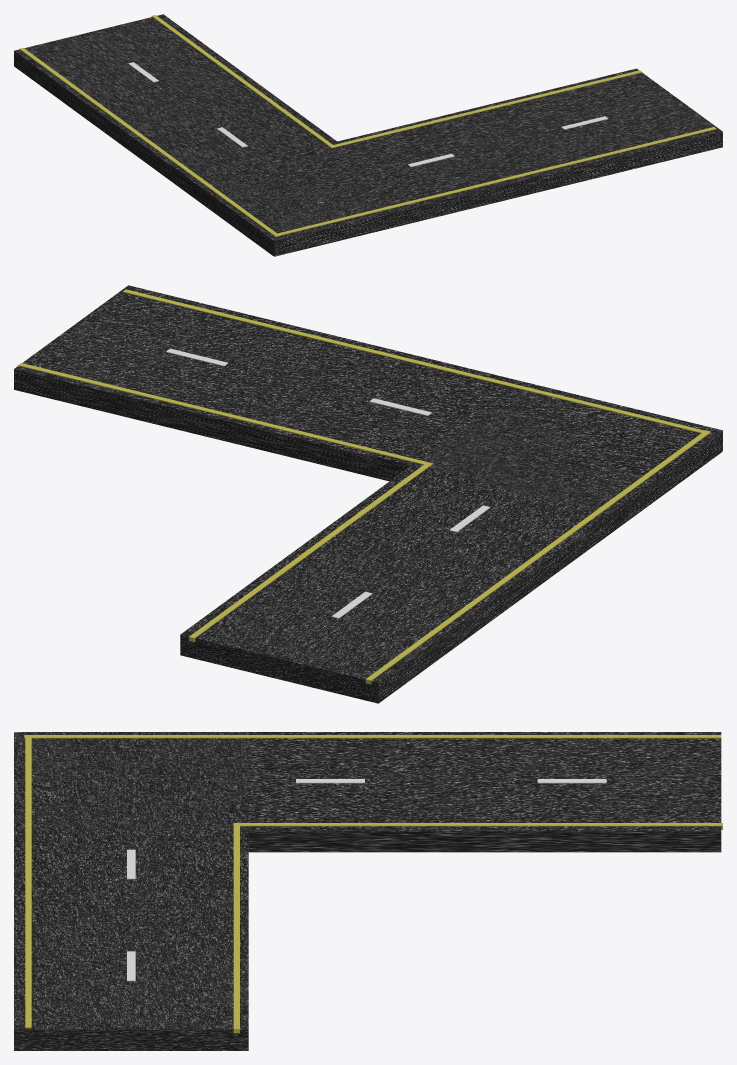
Rendered from road turn.fbx.
The picture shows the model from 3 angles, top to bottom: view 1: azimuth 30°, elevation 25°; view 2: azimuth 150°, elevation 25°; view 3: azimuth 270°, elevation 25°; orthographic projection. The views are drawn at different scales.
Parts seen in each view (by area): view 1: pCube63; view 2: pCube63; view 3: pCube63.
Boxes of the visible parts, x1,y1,x2,y2 form: pCube63: (14, 14, 722, 256); pCube63: (14, 285, 722, 703); pCube63: (14, 732, 722, 1050).
Bounding box in the file's own units: 30.03 × 1.04 × 30.22.
Materials: 3 (1 with a texture image).
